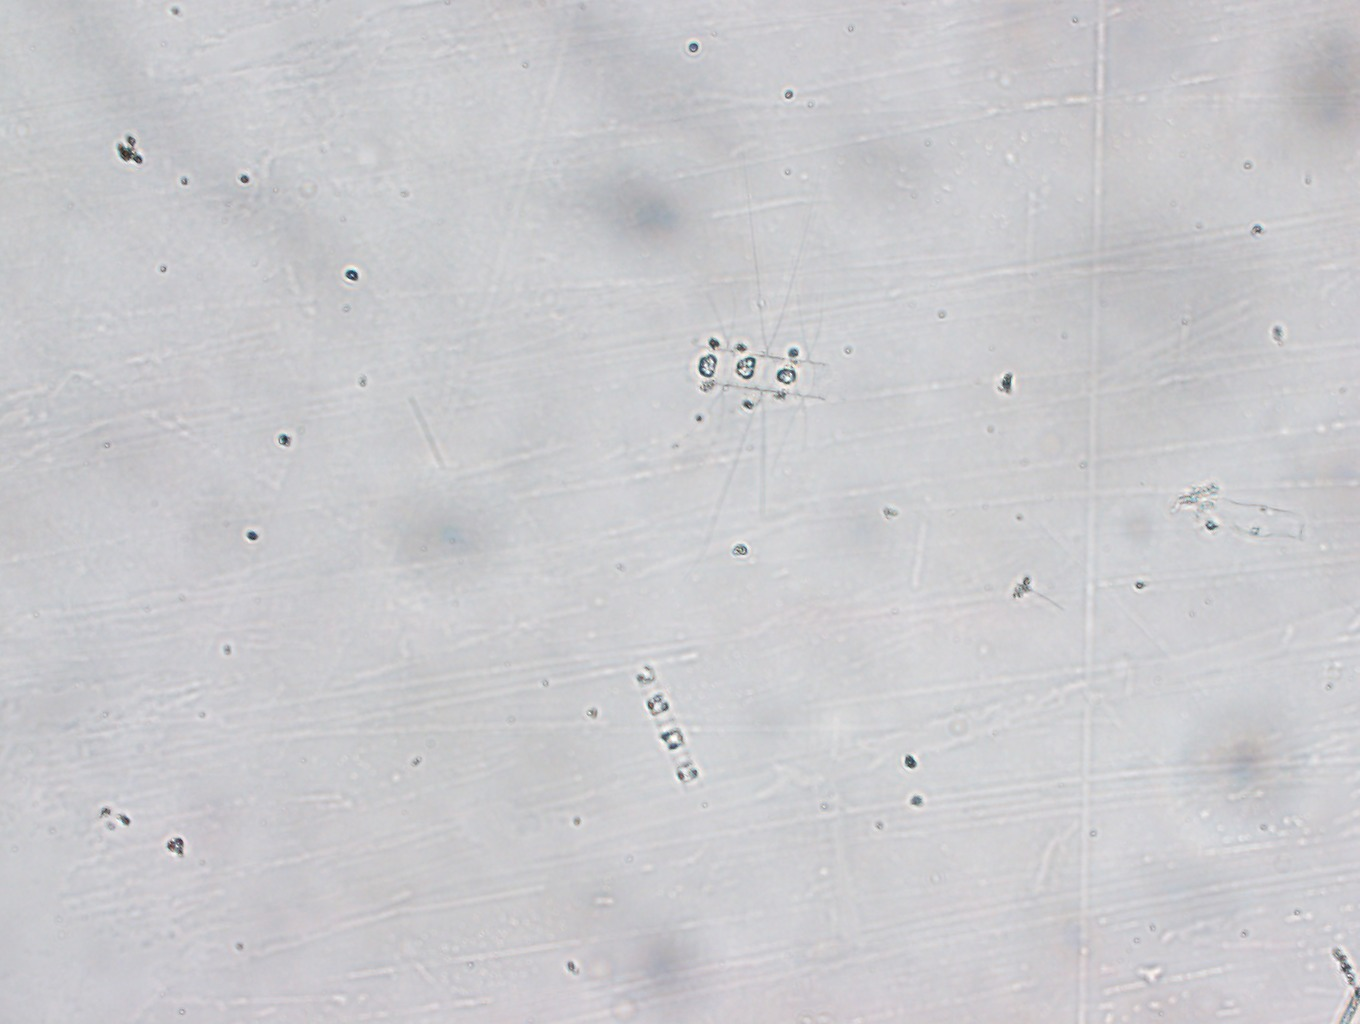chaetoceros: (685, 181, 833, 561)
skeletonema: (635, 660, 699, 790)
